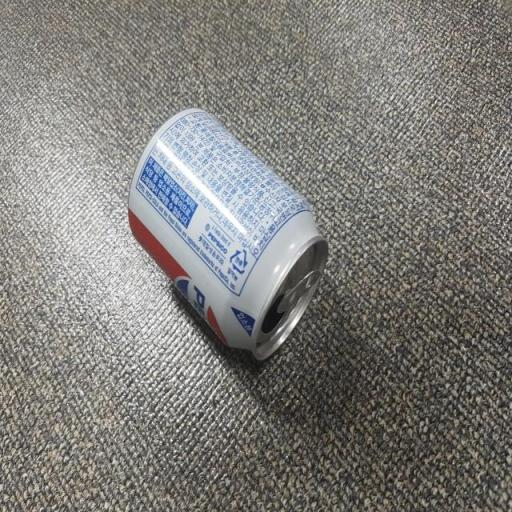metal: (118, 90, 356, 390)
